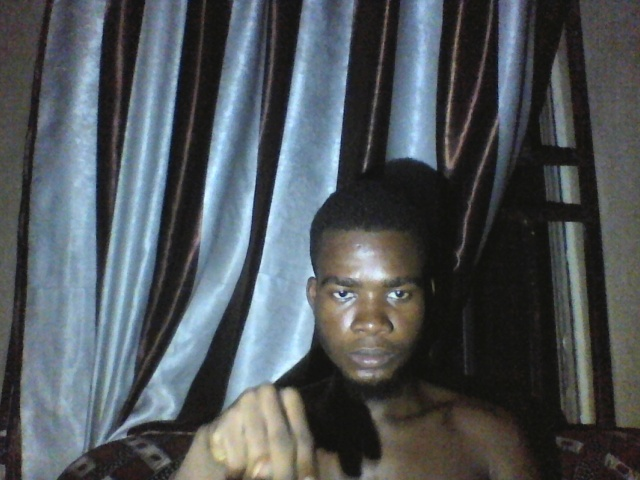no: (206, 380, 344, 480)
